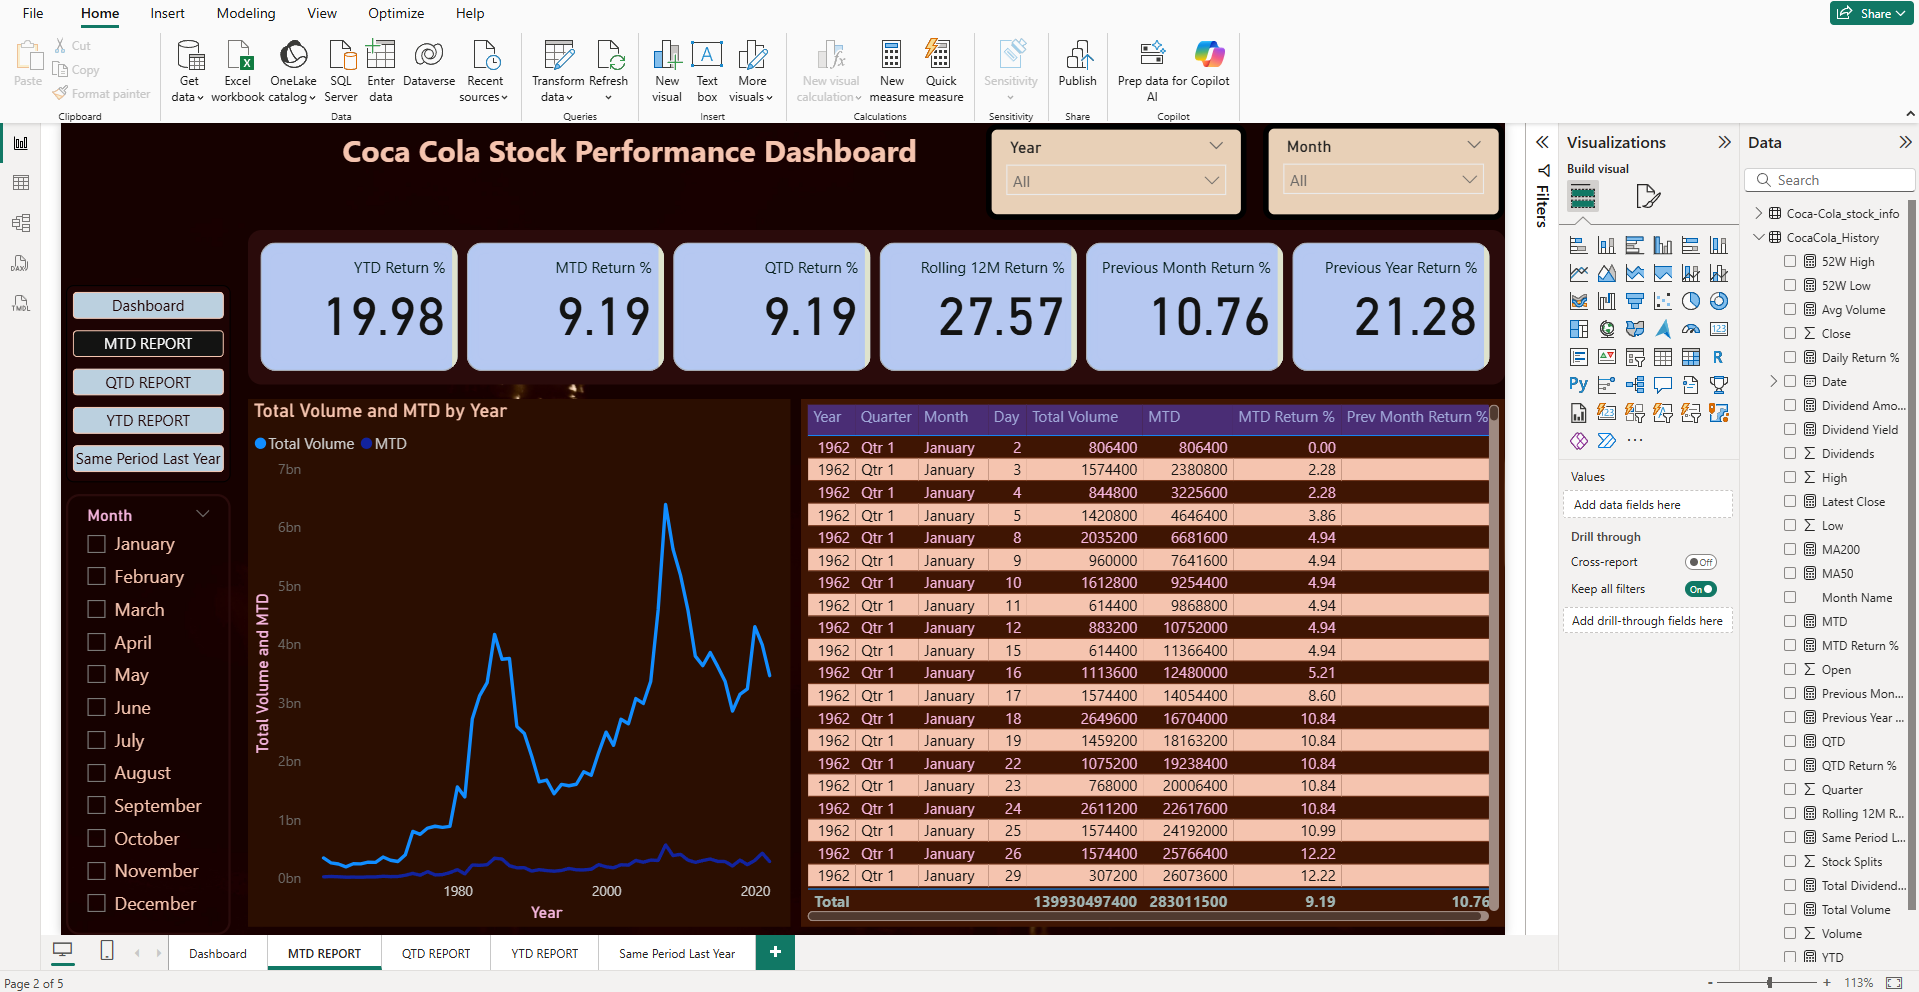

The dashboard page shown, as its layout file describes it:
{"tool":"powerbi","page":{"name":"MTD REPORT","canvas":[1280,720],"ordinal":1},"visuals":[{"type":"textbox","box":[213,1,583,61],"z":0},{"type":"slicer","fields":{"Values":["CocaCola_History.Date.Variation.Date Hierarchy.Month"]},"box":[1066,0,214,86],"z":1000},{"type":"slicer","fields":{"Values":["CocaCola_History.Date.Variation.Date Hierarchy.Month"]},"box":[4.4,329,146.3,391],"z":2000},{"type":"cardVisual","fields":{"Data":["CocaCola_History.YTD Return %","CocaCola_History.MTD Return %","CocaCola_History.QTD Return %","CocaCola_History.Rolling 12M Return %","CocaCola_History.Previous Month Return %","CocaCola_History.Previous Year Return %"]},"box":[165.8,94.9,1114.6,136.6],"z":3000},{"type":"lineChart","fields":{"Y":["CocaCola_History.Total Volume","CocaCola_History.MTD"],"Category":["CocaCola_History.Date.Variation.Date Hierarchy.Year"]},"box":[165.8,244.7,480.6,468.2],"z":4000},{"type":"tableEx","fields":{"Values":["CocaCola_History.Date.Variation.Date Hierarchy.Year","CocaCola_History.Date.Variation.Date Hierarchy.Quarter","CocaCola_History.Date.Variation.Date Hierarchy.Month","CocaCola_History.Date.Variation.Date Hierarchy.Day","CocaCola_History.Total Volume","CocaCola_History.MTD","CocaCola_History.MTD Return %","CocaCola_History.Previous Month Return %"]},"box":[656.2,244.7,624.2,468.2],"z":5000},{"type":"slicer","fields":{"Values":["CocaCola_History.Date.Variation.Date Hierarchy.Year"]},"box":[820,1,231,85],"z":6000},{"type":"pageNavigator","box":[4.4,143.6,146.3,174.7],"z":7000}]}

Visuals, with their boxes on the page's 1280x720 design canvas (x1, y1, x2, y2). These are canvas units, not pixel positions in the 1919x992 screenshot, which may show the page scaled, cropped or inside an application window:
textbox: {"x1": 213, "y1": 1, "x2": 796, "y2": 62}
slicer - CocaCola_History.Date.Variation.Date Hierarchy.Month: {"x1": 1066, "y1": 0, "x2": 1280, "y2": 86}
slicer - CocaCola_History.Date.Variation.Date Hierarchy.Month: {"x1": 4, "y1": 329, "x2": 151, "y2": 720}
cardVisual - CocaCola_History.YTD Return % x CocaCola_History.MTD Return %: {"x1": 166, "y1": 95, "x2": 1280, "y2": 232}
lineChart - CocaCola_History.Total Volume x CocaCola_History.MTD: {"x1": 166, "y1": 245, "x2": 646, "y2": 713}
tableEx - CocaCola_History.Date.Variation.Date Hierarchy.Year x CocaCola_History.Date.Variation.Date Hierarchy.Quarter: {"x1": 656, "y1": 245, "x2": 1280, "y2": 713}
slicer - CocaCola_History.Date.Variation.Date Hierarchy.Year: {"x1": 820, "y1": 1, "x2": 1051, "y2": 86}
pageNavigator: {"x1": 4, "y1": 144, "x2": 151, "y2": 318}
